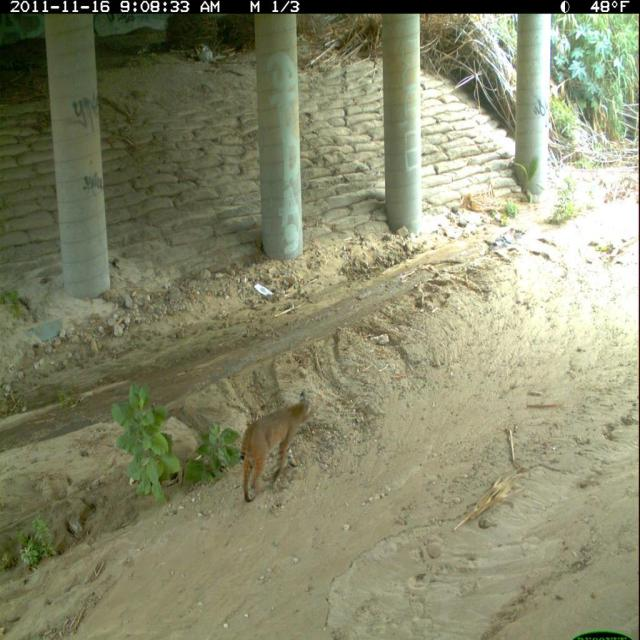bobcat: (236, 388, 318, 512)
